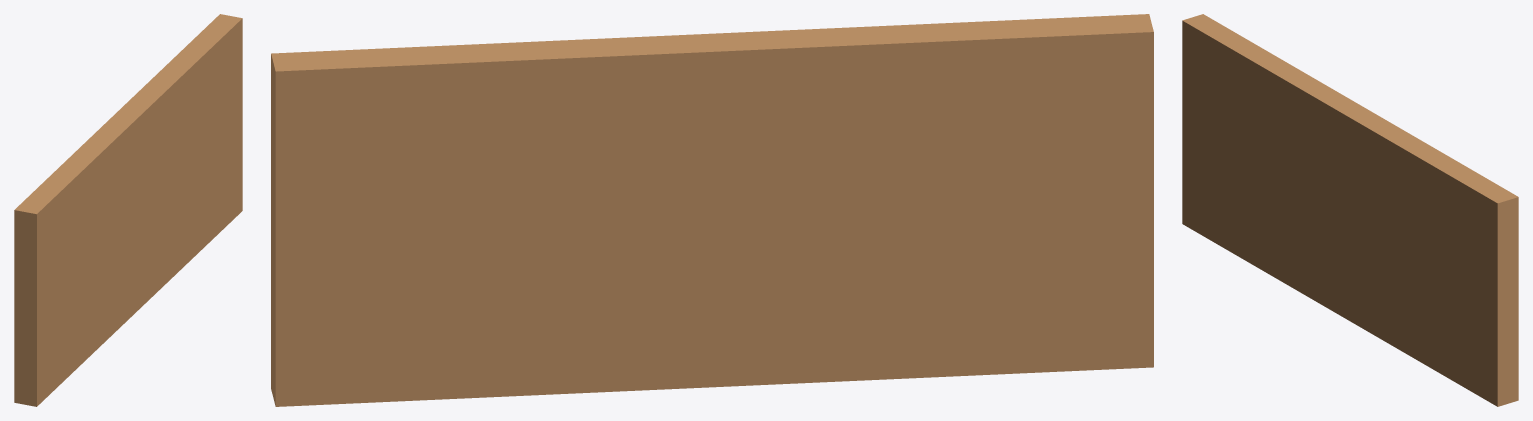
The model's file is cartel_trafico_tabla_lev5.glb.
The picture shows the model from 3 angles, left to right: view 1: azimuth 30°, elevation 25°; view 2: azimuth 150°, elevation 25°; view 3: azimuth 270°, elevation 25°; orthographic projection. The views are drawn at different scales.
Visible parts, largest first — view 1: cartel_trafico_tabla_lev5; view 2: cartel_trafico_tabla_lev5; view 3: cartel_trafico_tabla_lev5.
Boxes of the visible parts, bbox=[...] form: cartel_trafico_tabla_lev5: bbox=[14, 14, 242, 406]; cartel_trafico_tabla_lev5: bbox=[271, 14, 1153, 406]; cartel_trafico_tabla_lev5: bbox=[1182, 14, 1518, 406].
Size of the model in its own units: 4.49 by 2.25 by 3.37.
